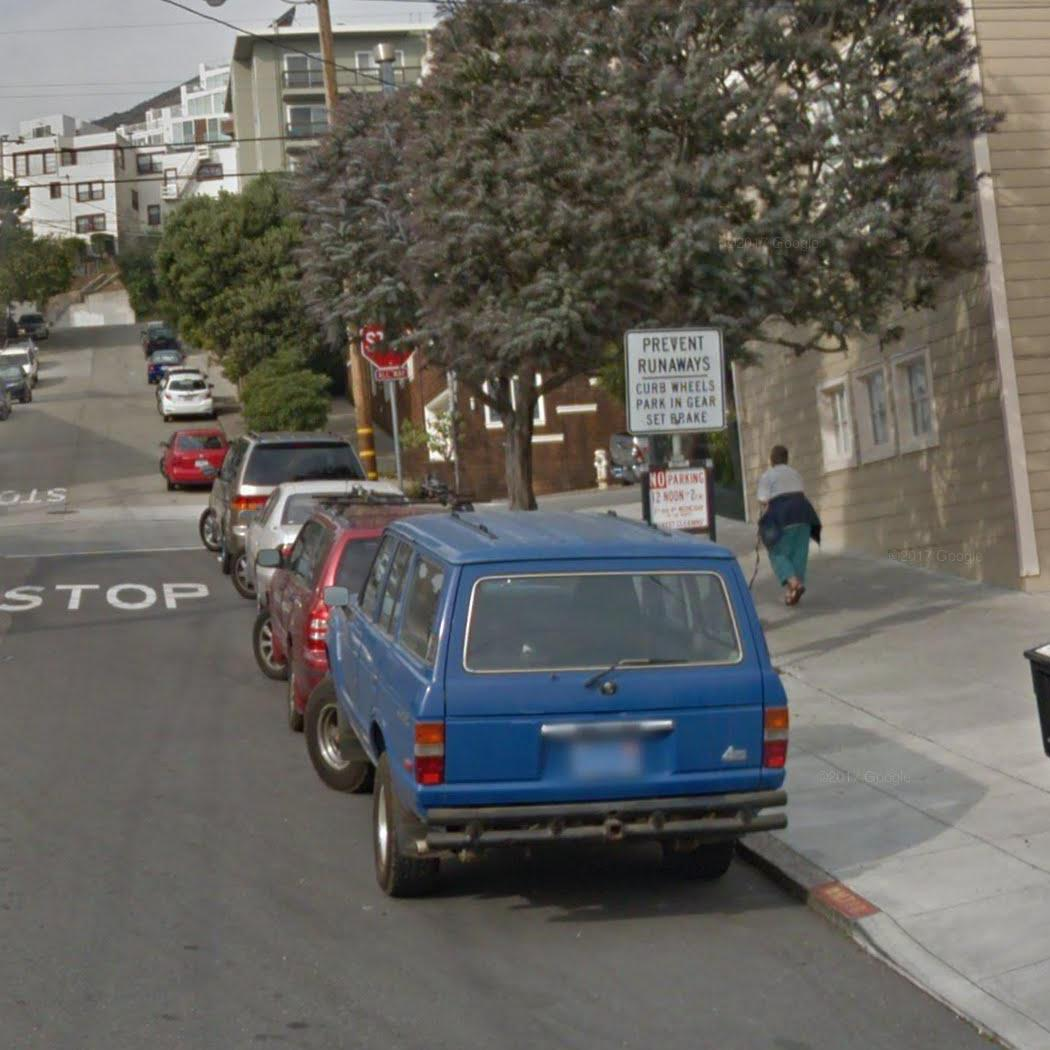No Parking: (647, 467, 710, 533)
